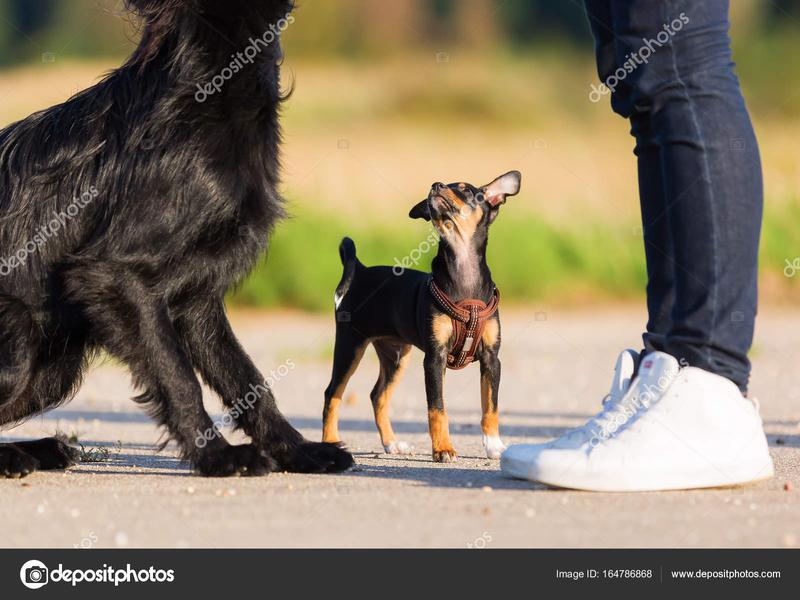dog_stand: (324, 168, 525, 462)
